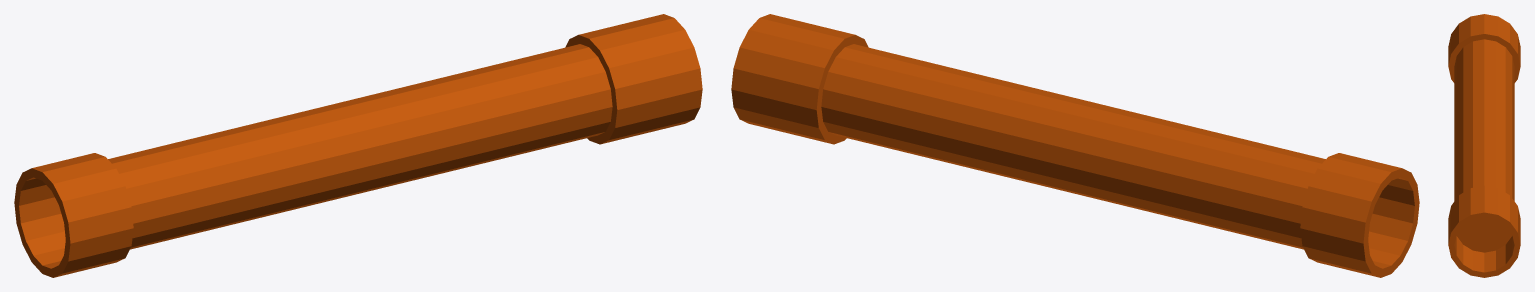
File: Pipe.obj
3 views of the same model, side by side, from view 1: azimuth 30°, elevation 25°; view 2: azimuth 150°, elevation 25°; view 3: azimuth 270°, elevation 25° (orthographic). The views are drawn at different scales.
Visible parts, largest first — view 1: Cylinder.006; view 2: Cylinder.006; view 3: Cylinder.006.
Boxes of the visible parts, x1,y1,x2,y2 form: Cylinder.006: (14, 14, 702, 277); Cylinder.006: (731, 14, 1419, 277); Cylinder.006: (1448, 14, 1520, 277).
Size of the model in its own units: 7.8 by 1.2 by 1.2.
